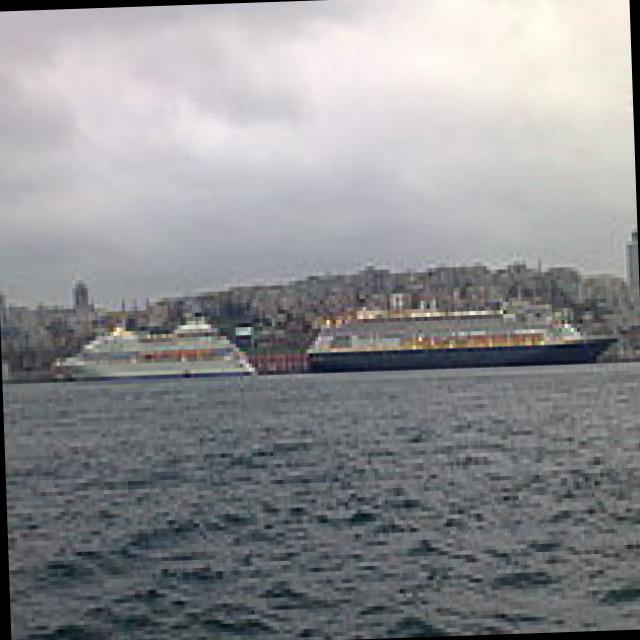boat: (306, 296, 620, 380), (54, 302, 261, 390)
